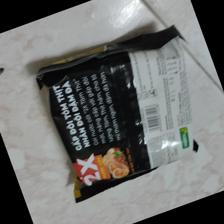3mien: (34, 25, 200, 204)
